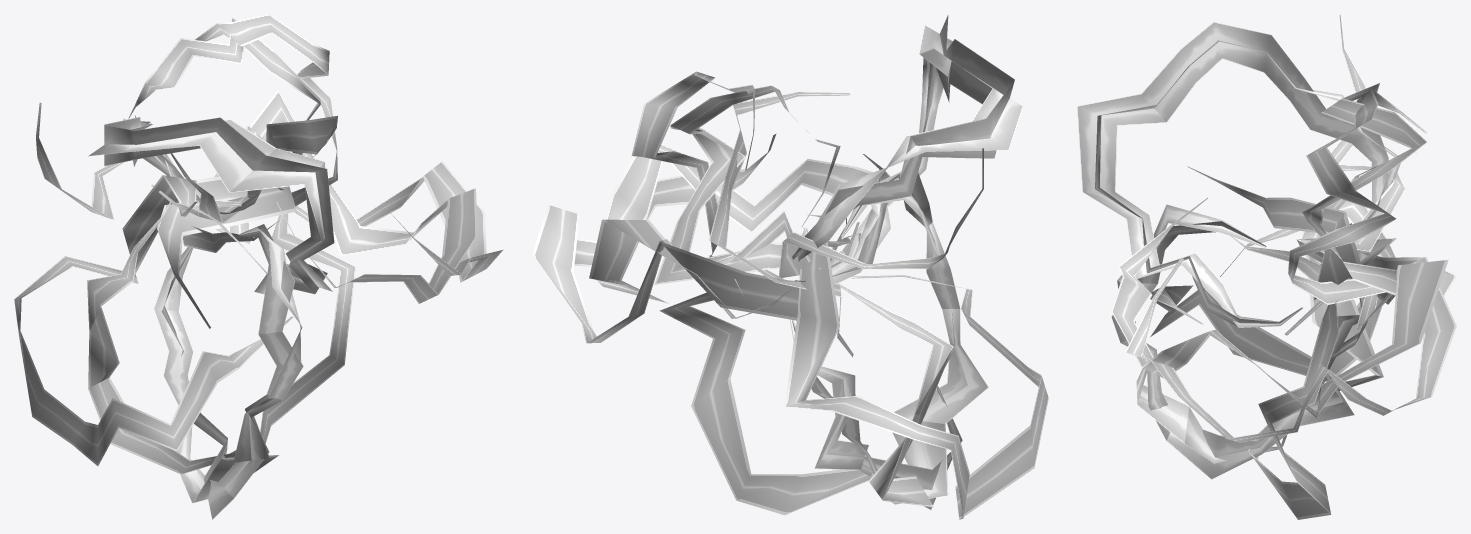
File: Mesh_FX_jianzhu.FBX
3 views of the same model, side by side, from view 1: azimuth 30°, elevation 25°; view 2: azimuth 150°, elevation 25°; view 3: azimuth 270°, elevation 25° (orthographic). The views are drawn at different scales.
Parts seen in each view (by area): view 1: Mesh_FX_jianzhu; view 2: Mesh_FX_jianzhu; view 3: Mesh_FX_jianzhu.
Part boxes in pixels (left/top/right/bottom): Mesh_FX_jianzhu: left=14, top=14, right=503, bottom=519; Mesh_FX_jianzhu: left=532, top=15, right=1048, bottom=519; Mesh_FX_jianzhu: left=1077, top=15, right=1456, bottom=519.
Size of the model in its own units: 198 by 187 by 149.
Materials: 1 (1 with a texture image).
